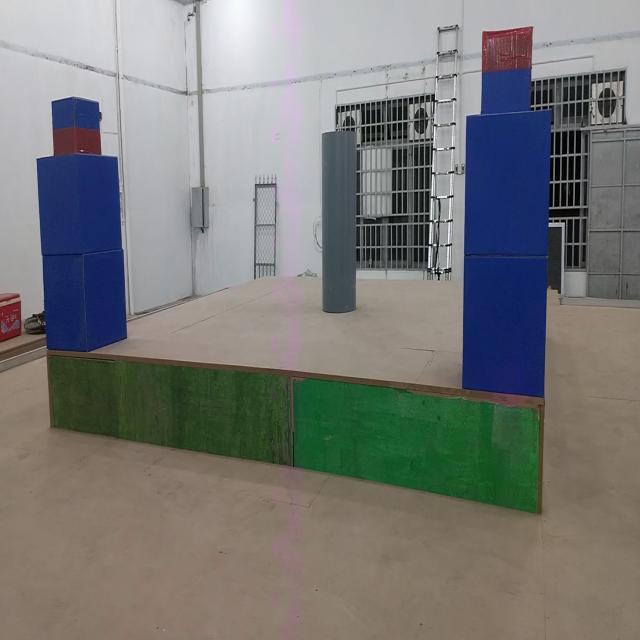earth_block: (464, 112, 551, 256), (462, 255, 549, 398), (40, 252, 135, 354), (36, 155, 129, 256)
sky_block: (478, 26, 535, 115), (49, 97, 102, 155)
